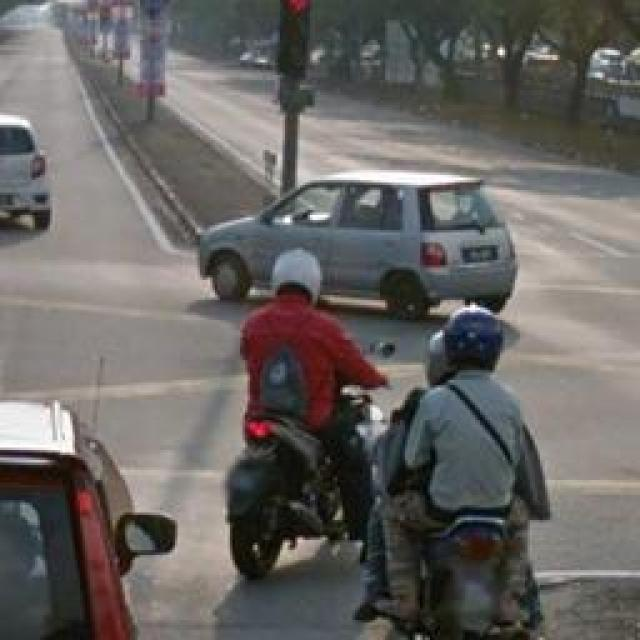car: (182, 165, 523, 325), (0, 393, 155, 640), (0, 110, 51, 253)
motorbike: (361, 281, 563, 640), (237, 228, 375, 582)
